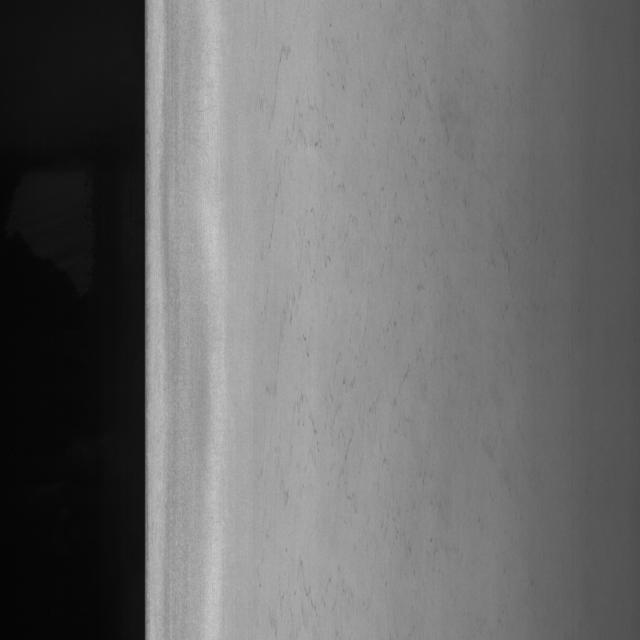inclusion: (228, 60, 474, 574)
